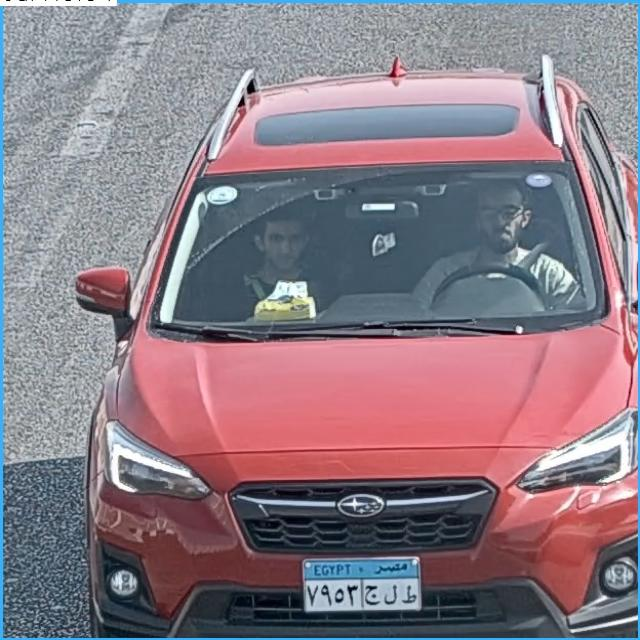windshield: (152, 169, 594, 334)
